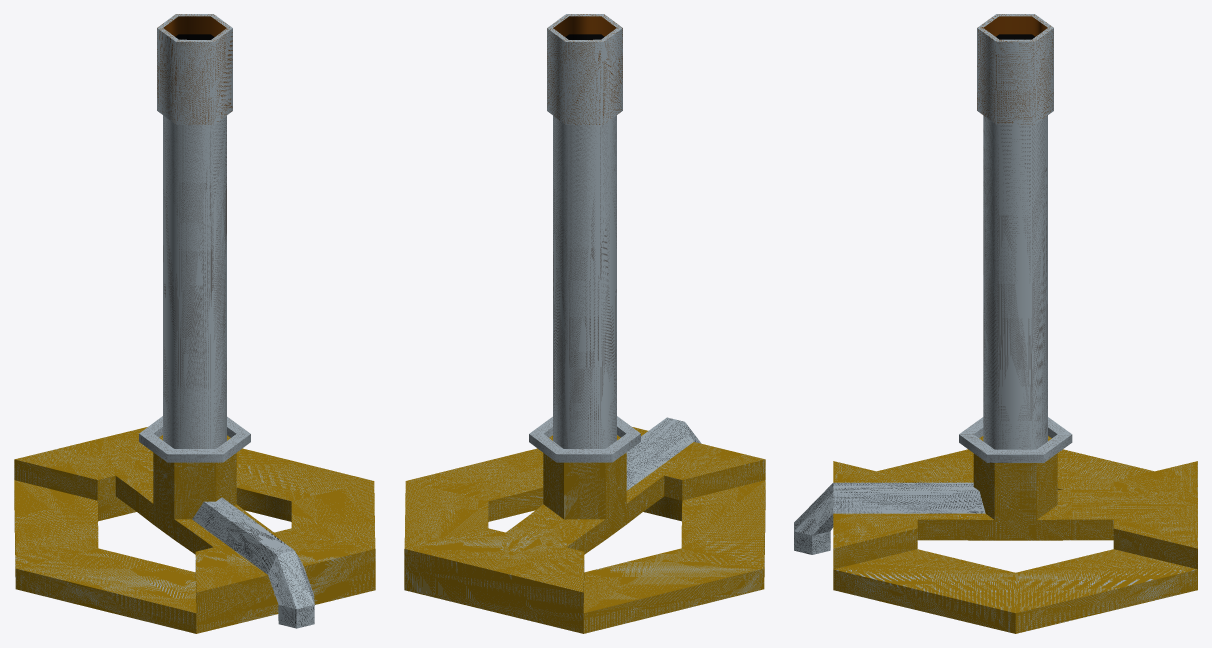
Rendered from BunsenBurner.obj.
3 renders of one model, left to right at view 1: azimuth 30°, elevation 25°; view 2: azimuth 150°, elevation 25°; view 3: azimuth 270°, elevation 25°, orthographic.
Parts seen in each view (by area): view 1: Mesh1 Model; view 2: Mesh1 Model; view 3: Mesh1 Model.
Boxes of the visible parts, <box> form: Mesh1 Model: <box>14,14,375,633</box>; Mesh1 Model: <box>404,14,765,633</box>; Mesh1 Model: <box>794,14,1197,633</box>.
Size of the model in its own units: 0.136 by 0.1875 by 0.1324.
